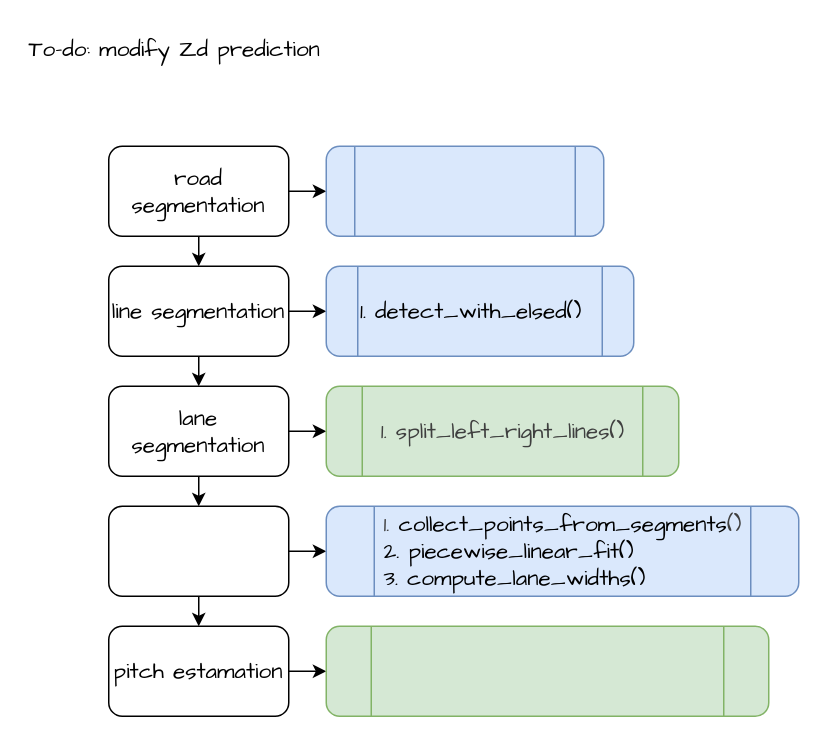
Image size: 825x743. Some labels were removed from this diagram. Here are the shapes that lost their labels. From the top down, the centre of each, then its label:
At [464,190]: "1. load_pidnet() 2. predict_road() 3. apply road mask()".
At [198,550]: "lane fitting".
At [547,670]: "1. estimate_pitch_from_widths()".
